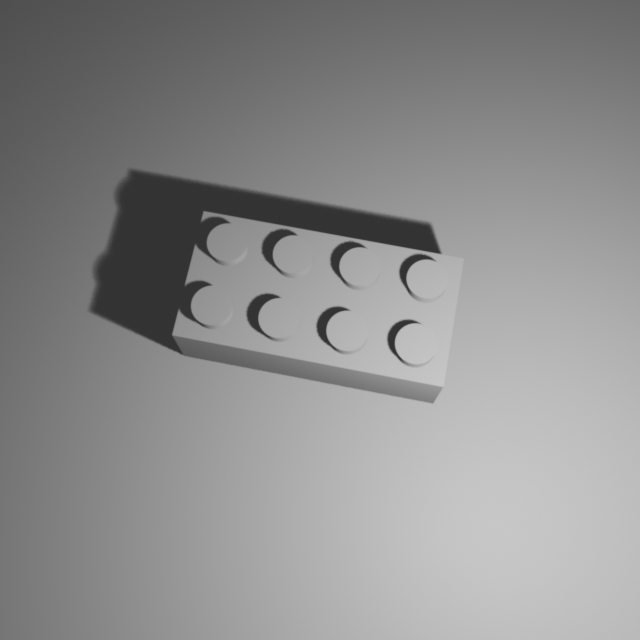lego_2x4: (170, 206, 466, 404)
